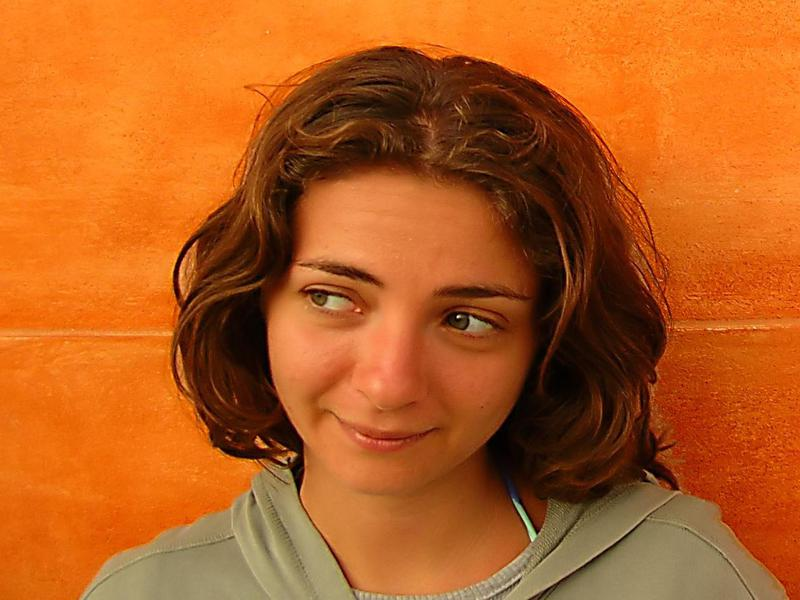person: (72, 40, 774, 600)
